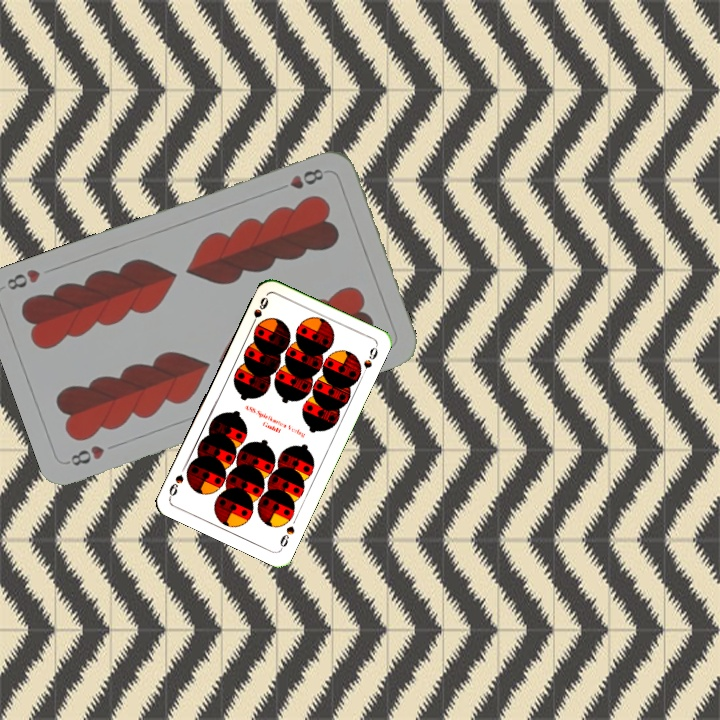H8: (273, 164, 326, 194), (63, 441, 107, 469)
S9: (246, 293, 271, 330), (276, 522, 297, 552)
